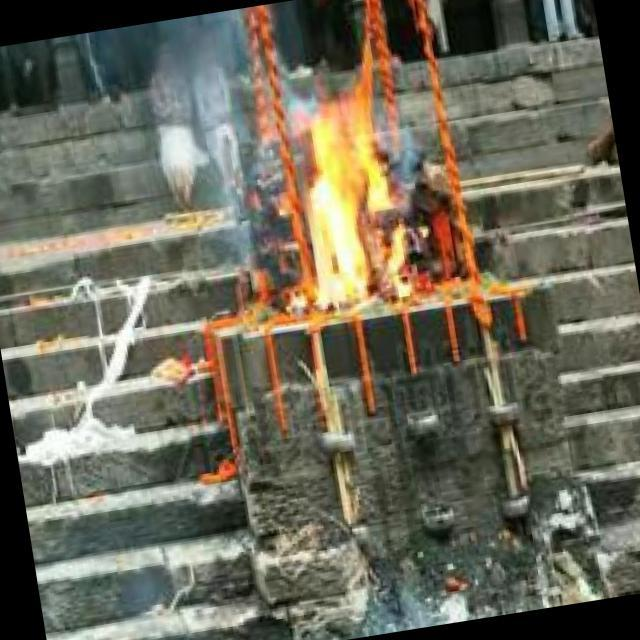Fire: (287, 93, 421, 320)
